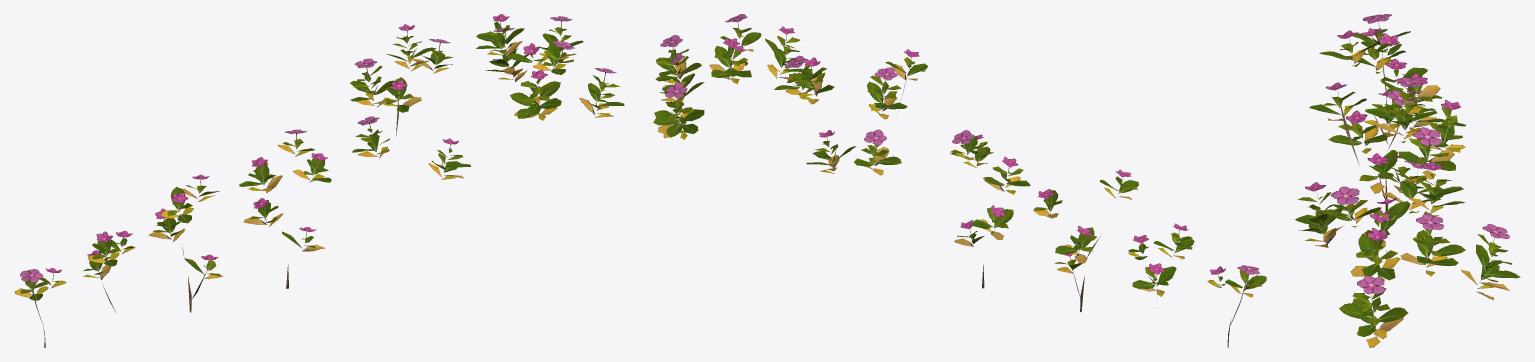
Rendered from flowering-periwinkle.glb.
3 views of the same model, side by side, from view 1: azimuth 30°, elevation 25°; view 2: azimuth 150°, elevation 25°; view 3: azimuth 270°, elevation 25° (orthographic). The views are drawn at different scales.
Parts seen in each view (by area): view 1: periwinkle_plant_01_LOD0, periwinkle_plant_02_LOD0, periwinkle_plant_03_LOD0, periwinkle_plant_04_LOD0, periwinkle_plant_05_LOD0, periwinkle_plant_06_LOD0; view 2: periwinkle_plant_01_LOD0, periwinkle_plant_02_LOD0, periwinkle_plant_03_LOD0, periwinkle_plant_04_LOD0, periwinkle_plant_05_LOD0, periwinkle_plant_06_LOD0; view 3: periwinkle_plant_01_LOD0, periwinkle_plant_02_LOD0, periwinkle_plant_03_LOD0, periwinkle_plant_04_LOD0, periwinkle_plant_05_LOD0, periwinkle_plant_06_LOD0.
Boxes of the visible parts, x1,y1,x2,y2 form: periwinkle_plant_01_LOD0: (476, 14, 624, 120); periwinkle_plant_02_LOD0: (350, 24, 470, 179); periwinkle_plant_03_LOD0: (239, 129, 331, 288); periwinkle_plant_04_LOD0: (148, 174, 223, 312); periwinkle_plant_05_LOD0: (83, 230, 135, 312); periwinkle_plant_06_LOD0: (14, 267, 66, 347); periwinkle_plant_01_LOD0: (653, 14, 807, 139); periwinkle_plant_02_LOD0: (774, 49, 927, 175); periwinkle_plant_03_LOD0: (950, 130, 1030, 288); periwinkle_plant_04_LOD0: (1033, 169, 1138, 312); periwinkle_plant_05_LOD0: (1128, 223, 1194, 302); periwinkle_plant_06_LOD0: (1207, 265, 1266, 347); periwinkle_plant_01_LOD0: (1295, 162, 1520, 347); periwinkle_plant_02_LOD0: (1309, 77, 1465, 286); periwinkle_plant_03_LOD0: (1328, 90, 1425, 259); periwinkle_plant_04_LOD0: (1319, 30, 1444, 211); periwinkle_plant_05_LOD0: (1346, 28, 1441, 149); periwinkle_plant_06_LOD0: (1353, 14, 1410, 124).
Size of the model in its own units: 1.24 by 0.4107 by 0.3207.
Materials: 1 (1 with a texture image).
